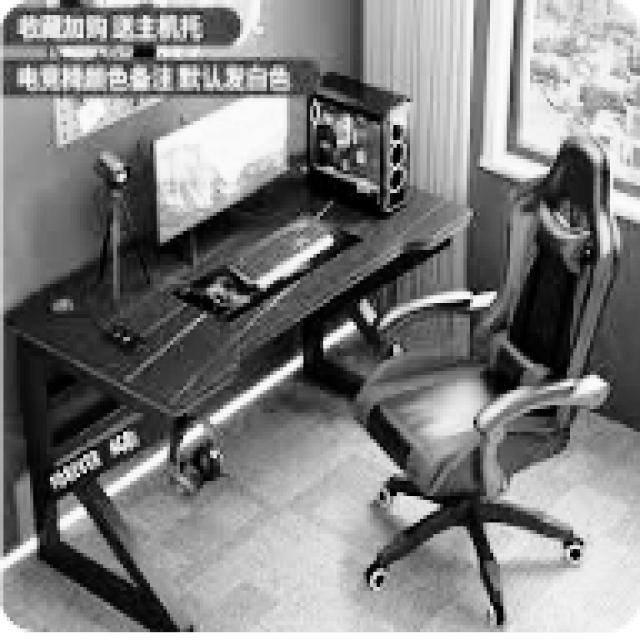book: (350, 132, 620, 625)
table: (4, 162, 474, 628)
